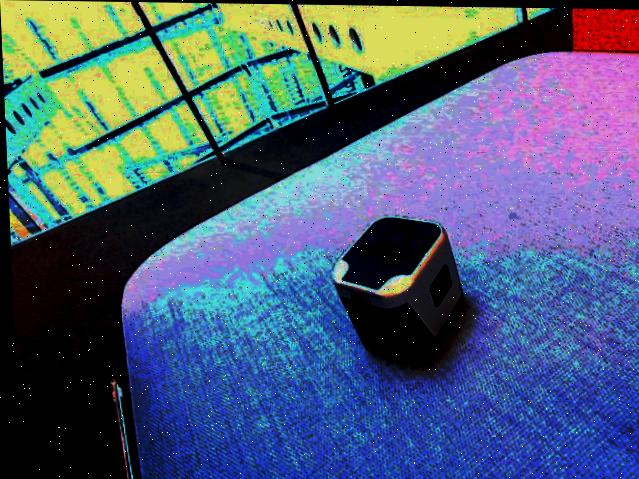adapter: (326, 214, 463, 361)
